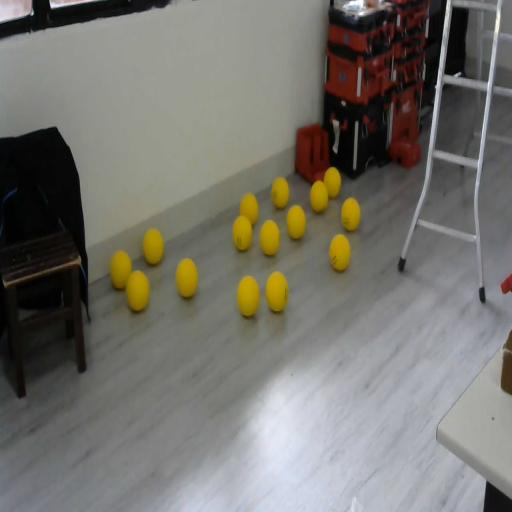FUEL: (125, 269, 150, 312), (236, 274, 260, 318), (175, 256, 199, 298), (265, 270, 289, 312), (141, 227, 165, 266), (110, 249, 132, 290), (328, 233, 350, 272), (259, 218, 280, 256), (286, 204, 306, 240), (239, 192, 259, 227), (322, 166, 342, 198), (342, 197, 360, 231), (310, 180, 328, 213), (271, 176, 289, 208)
